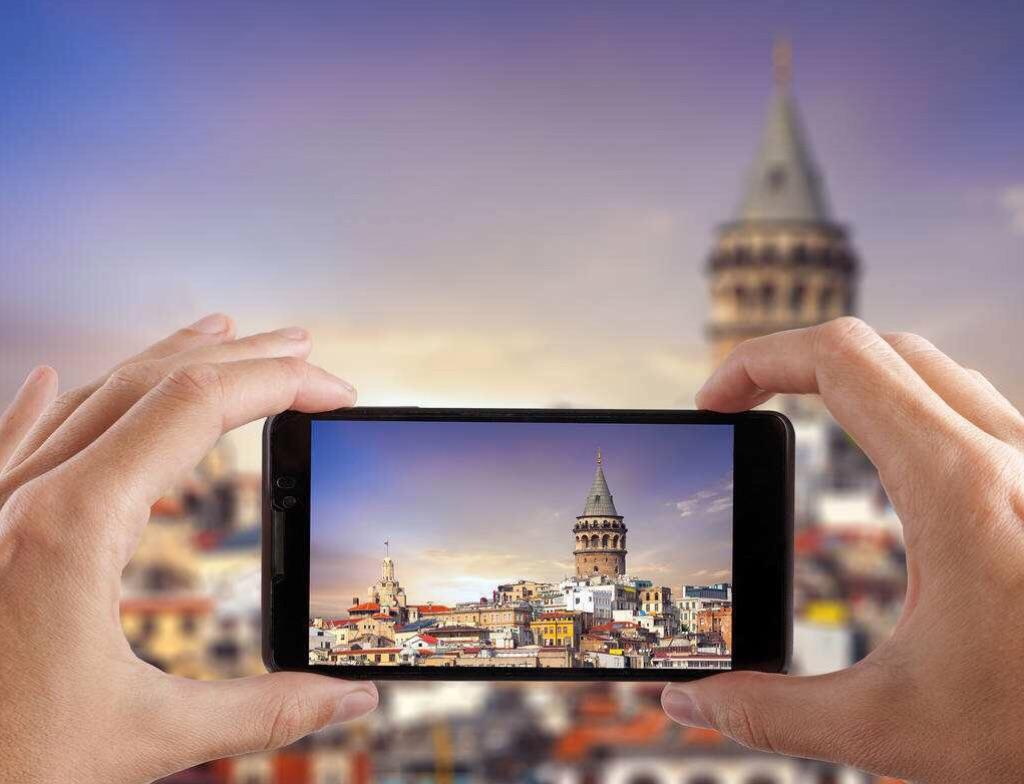taking photos: (12, 307, 1020, 773)
